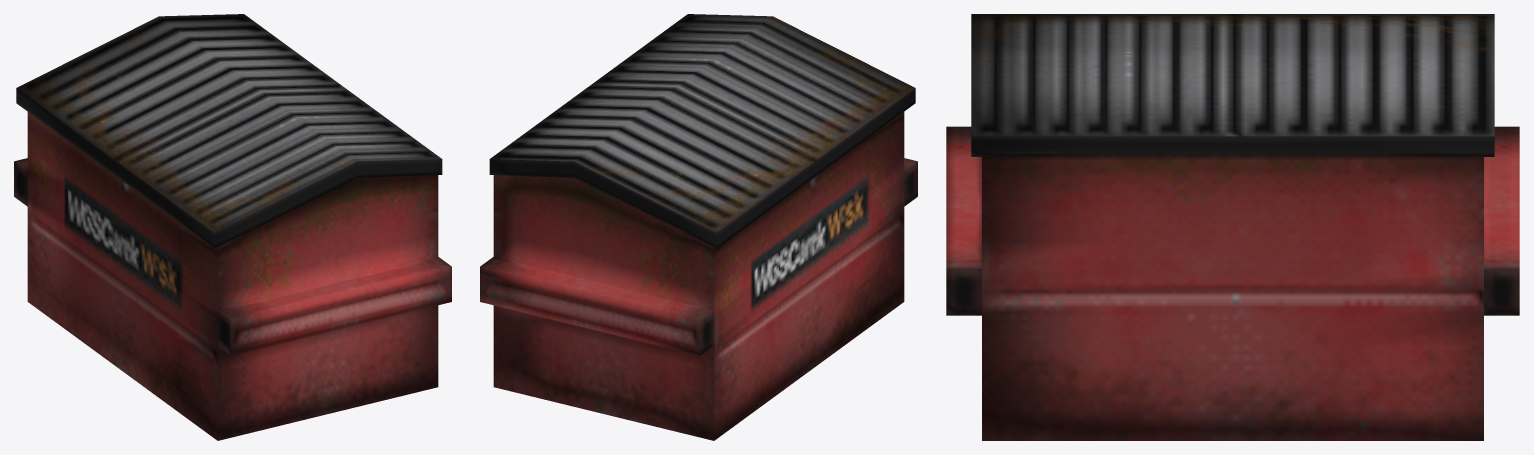
Rendered from dumpster1.fbx.
3 views of the same model, side by side, from view 1: azimuth 30°, elevation 25°; view 2: azimuth 150°, elevation 25°; view 3: azimuth 270°, elevation 25° (orthographic). The views are drawn at different scales.
Parts seen in each view (by area): view 1: dumpster1; view 2: dumpster1; view 3: dumpster1.
Part boxes in pixels (x1,y1,x2,y2): dumpster1: (14, 14, 451, 440); dumpster1: (480, 14, 917, 440); dumpster1: (946, 14, 1519, 440).
Size of the model in its own units: 115 by 190 by 120.
1 material, 1 textured.
